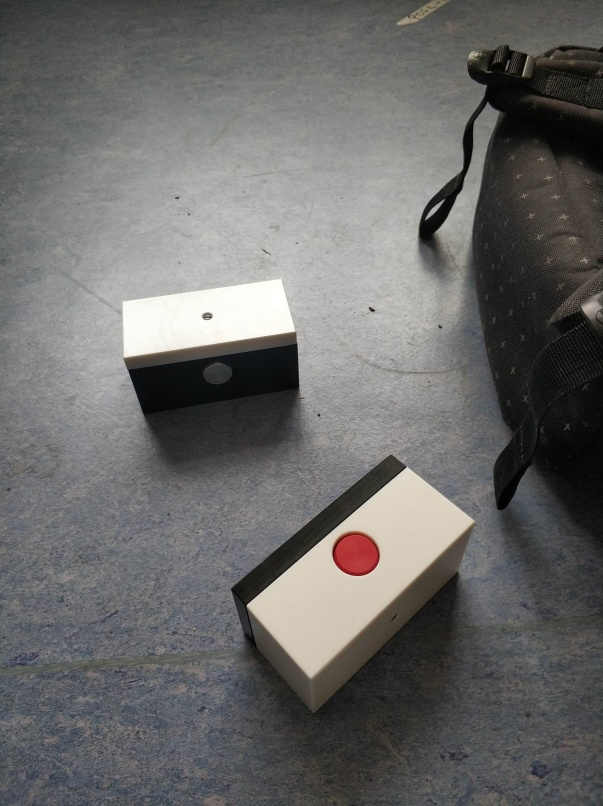black+white+red: (230, 452, 483, 718)
white+black+silver: (117, 274, 307, 426)
